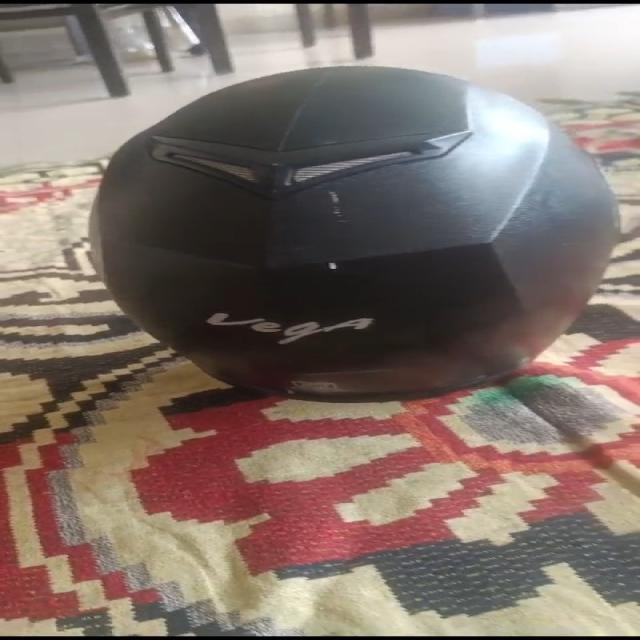Helmet: (89, 66, 621, 405)
